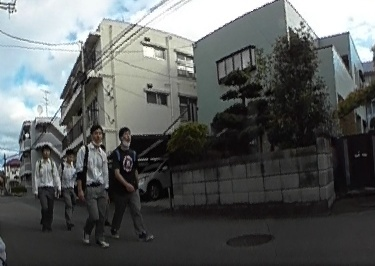person: (112, 126, 150, 239), (80, 122, 111, 244), (35, 143, 61, 234), (60, 146, 78, 223)
